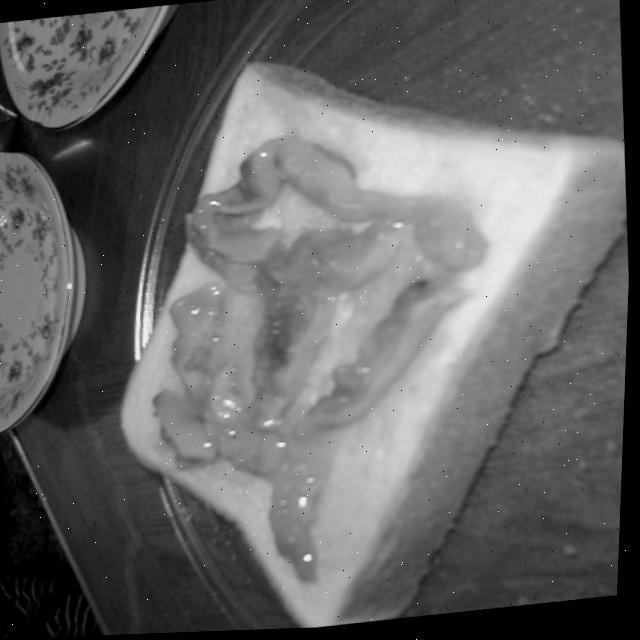面包点心: (87, 15, 639, 637)
